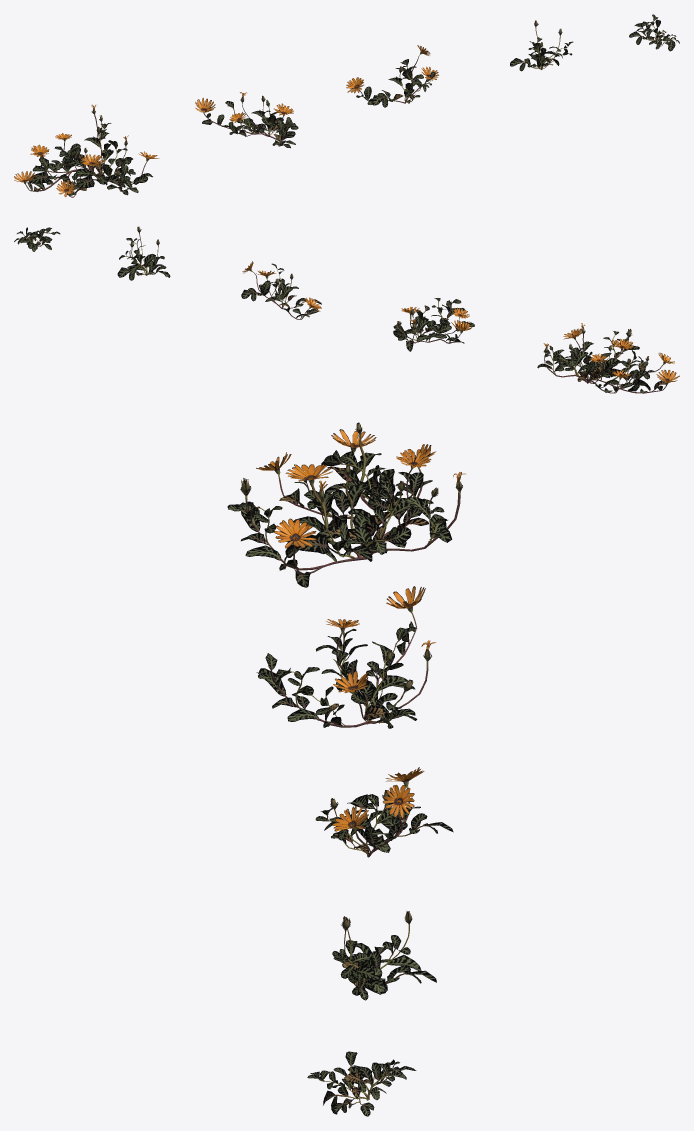
File: ursinia.glb
3 views of the same model, one above another, from view 1: azimuth 30°, elevation 25°; view 2: azimuth 150°, elevation 25°; view 3: azimuth 270°, elevation 25° (orthographic). The views are drawn at different scales.
Parts seen in each view (by area): view 1: flower_ursinia_a_LOD0, flower_ursinia_b_LOD0, flower_ursinia_c_LOD0, flower_ursinia_d_LOD0, flower_ursinia_e_LOD0; view 2: flower_ursinia_a_LOD0, flower_ursinia_b_LOD0, flower_ursinia_c_LOD0, flower_ursinia_d_LOD0, flower_ursinia_e_LOD0; view 3: flower_ursinia_a_LOD0, flower_ursinia_b_LOD0, flower_ursinia_c_LOD0, flower_ursinia_d_LOD0, flower_ursinia_e_LOD0.
Boxes of the visible parts, <box> form: flower_ursinia_a_LOD0: <box>14,104,159,197</box>; flower_ursinia_b_LOD0: <box>195,92,298,148</box>; flower_ursinia_c_LOD0: <box>346,45,438,107</box>; flower_ursinia_d_LOD0: <box>510,20,573,71</box>; flower_ursinia_e_LOD0: <box>629,14,679,51</box>; flower_ursinia_a_LOD0: <box>537,323,679,393</box>; flower_ursinia_b_LOD0: <box>393,298,474,351</box>; flower_ursinia_c_LOD0: <box>241,261,321,319</box>; flower_ursinia_d_LOD0: <box>117,226,170,280</box>; flower_ursinia_e_LOD0: <box>14,227,60,251</box>; flower_ursinia_a_LOD0: <box>227,422,465,587</box>; flower_ursinia_b_LOD0: <box>256,586,435,728</box>; flower_ursinia_c_LOD0: <box>315,767,453,857</box>; flower_ursinia_d_LOD0: <box>332,911,436,1000</box>; flower_ursinia_e_LOD0: <box>307,1051,416,1116</box>.
Size of the model in its own units: 2.19 by 0.1718 by 0.3433.
1 material, 1 textured.
